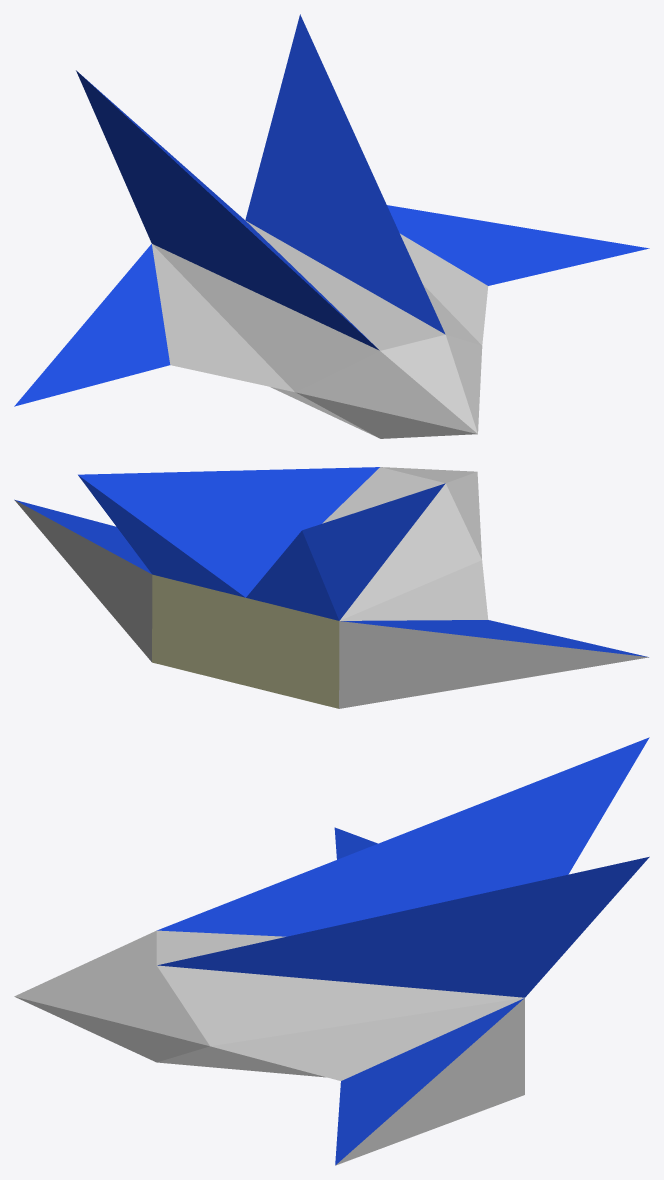
Rendered from Granga Fighter.obj.
3 views of the same model, one above another, from view 1: azimuth 30°, elevation 25°; view 2: azimuth 150°, elevation 25°; view 3: azimuth 270°, elevation 25° (orthographic). The views are drawn at different scales.
Visible parts, largest first — view 1: silver blue, silver, silver metal, silver black; view 2: silver blue, silver, silver light, silver metal, silver black; view 3: silver blue, silver, silver metal, silver black.
Boxes of the visible parts, left/top/right/bottom form: silver blue: left=14, top=14, right=649, bottom=406; silver: left=152, top=244, right=482, bottom=438; silver metal: left=152, top=233, right=488, bottom=391; silver black: left=245, top=220, right=477, bottom=433; silver blue: left=14, top=467, right=648, bottom=657; silver: left=14, top=471, right=648, bottom=708; silver light: left=152, top=574, right=339, bottom=708; silver metal: left=340, top=560, right=488, bottom=620; silver black: left=322, top=467, right=476, bottom=523; silver blue: left=157, top=737, right=649, bottom=1165; silver: left=14, top=965, right=524, bottom=1165; silver metal: left=211, top=998, right=523, bottom=1080; silver black: left=15, top=930, right=285, bottom=996.
Bounding box in the file's own units: 136 × 46.18 × 107.
